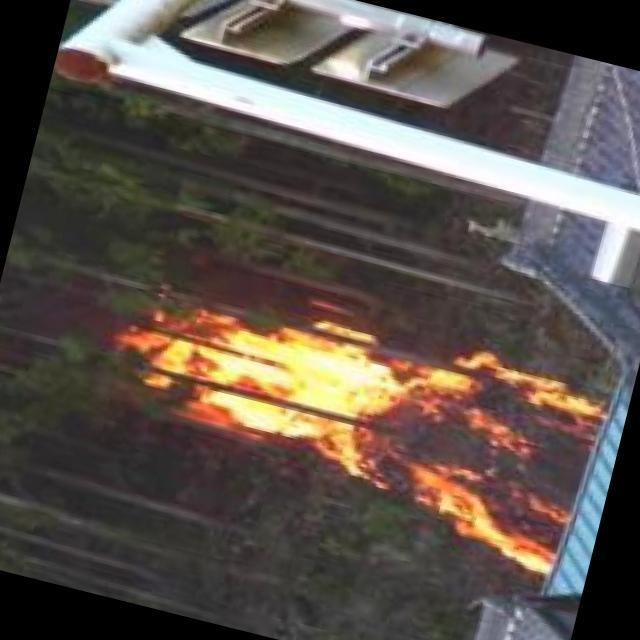Fire: (102, 265, 611, 578)
